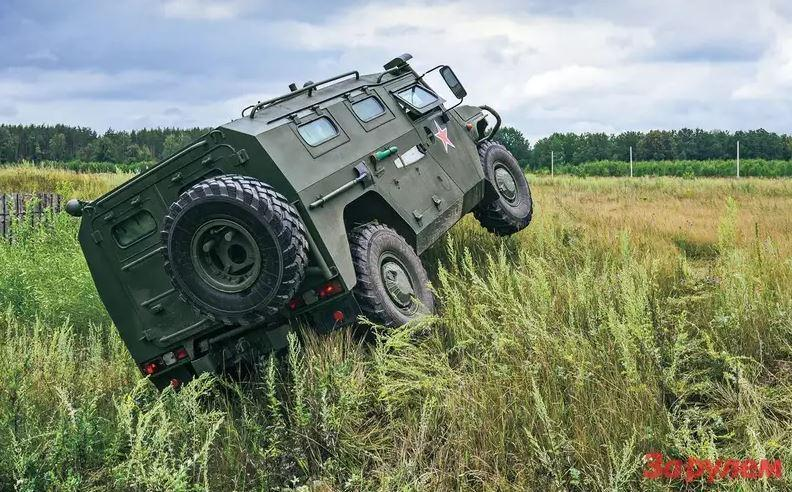armored_car: (64, 52, 535, 393)
